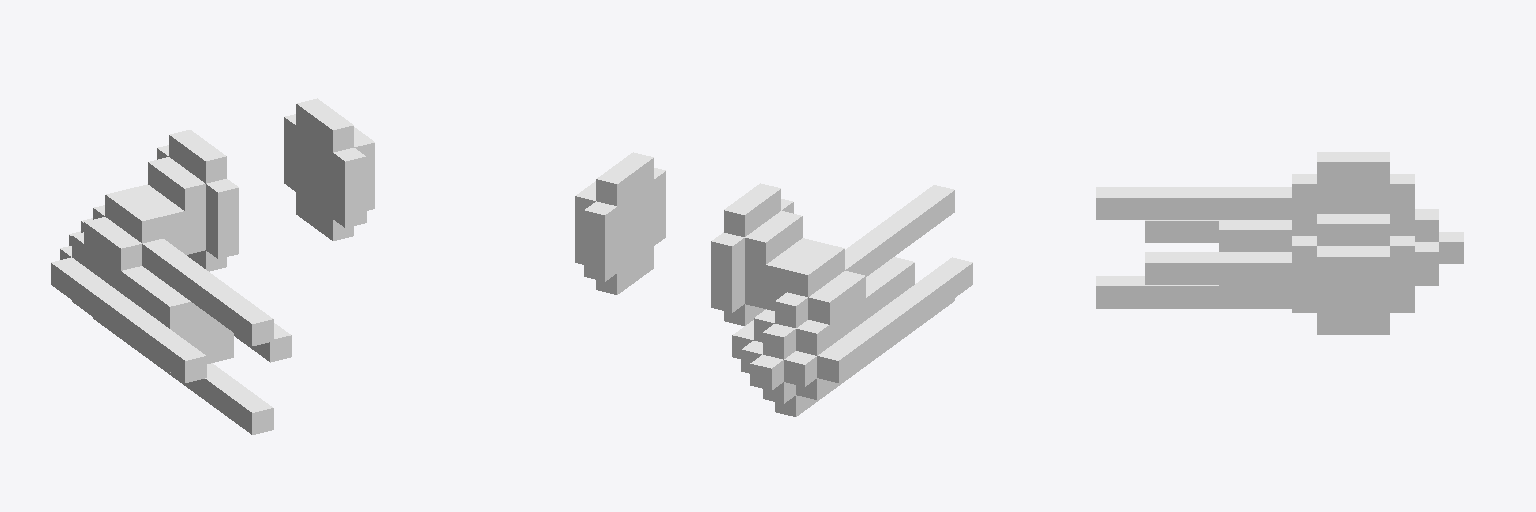
Rendered from WeaponRailgun.obj.
The picture shows the model from 3 angles: view 1: azimuth 30°, elevation 25°; view 2: azimuth 150°, elevation 25°; view 3: azimuth 270°, elevation 25°; orthographic projection.
Parts seen in each view (by area): view 1: object 1; view 2: object 1; view 3: object 1.
Part boxes in pixels (left/top/right/bottom): object 1: left=51, top=98, right=374, bottom=434; object 1: left=575, top=152, right=972, bottom=416; object 1: left=1096, top=152, right=1463, bottom=334.
Size of the model in its own units: 1.3 by 0.8 by 1.5.